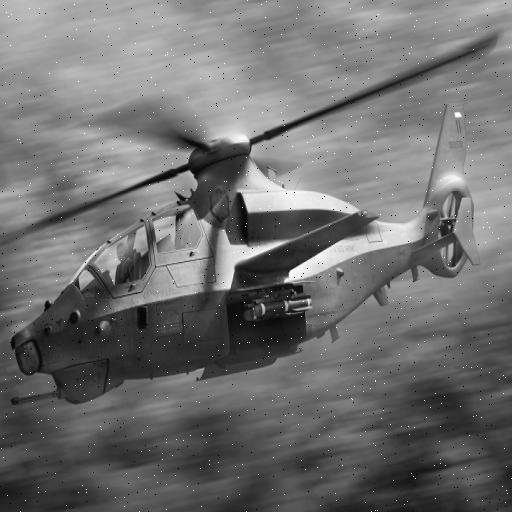helicopter: (8, 35, 495, 409)
